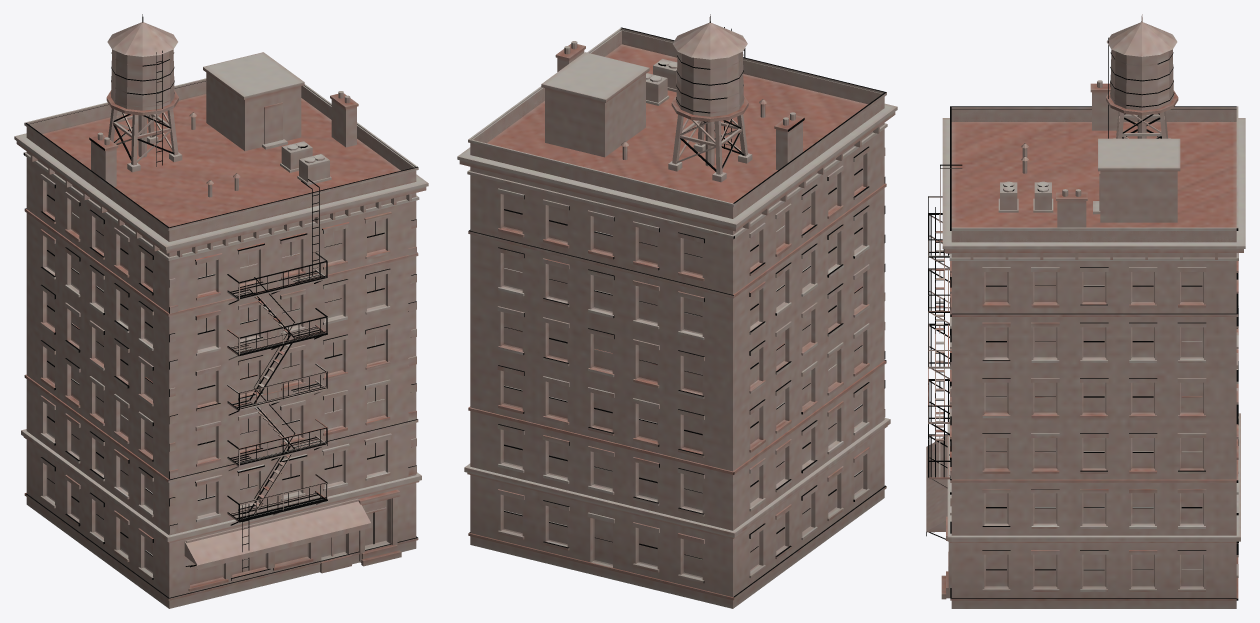
Rendered from BldgBrick.fbx.
3 views of the same model, side by side, from view 1: azimuth 30°, elevation 25°; view 2: azimuth 150°, elevation 25°; view 3: azimuth 270°, elevation 25° (orthographic). The views are drawn at different scales.
Visible parts, largest first — view 1: BldgBrick; view 2: BldgBrick; view 3: BldgBrick.
Boxes of the visible parts, box(x1,y1,x2,y2) form: BldgBrick: box(14, 14, 428, 608); BldgBrick: box(457, 14, 897, 608); BldgBrick: box(926, 14, 1245, 608).
Size of the model in its own units: 1488 by 2752 by 1569.
Materials: 1 (1 with a texture image).
